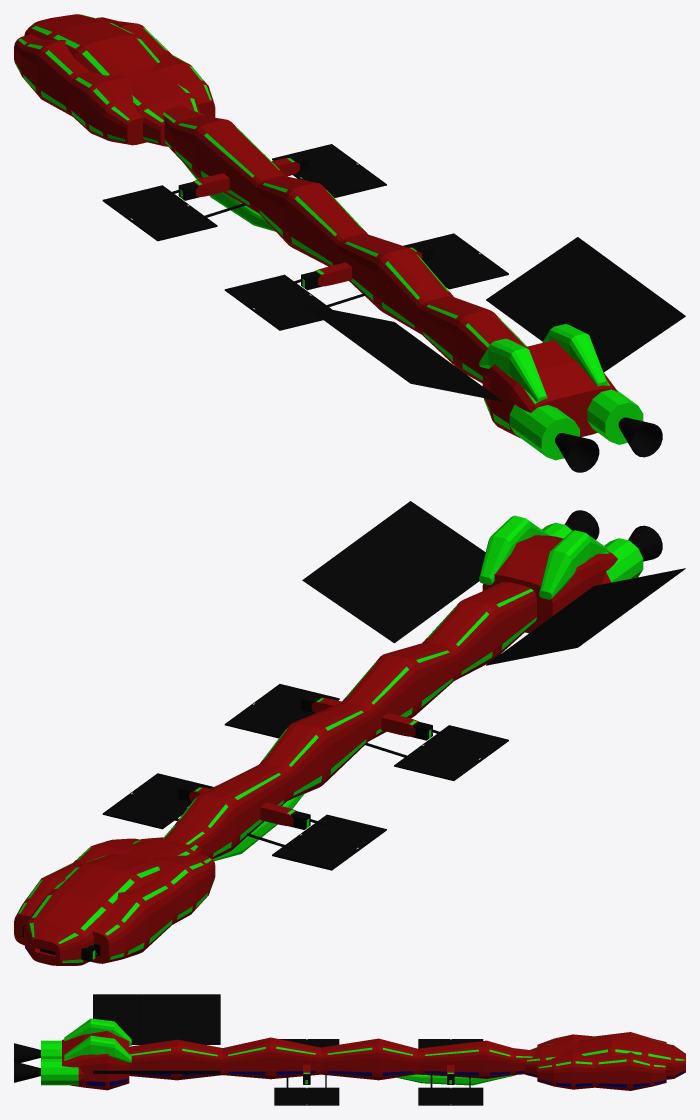
The model's file is longreach.glb.
3 renders of one model, top to bottom at view 1: azimuth 30°, elevation 25°; view 2: azimuth 150°, elevation 25°; view 3: azimuth 270°, elevation 25°, orthographic. The views are drawn at different scales.
Visible parts, largest first — view 1: expedition_longreach:dorsal_keel, expedition_longreach:radiator_2, expedition_longreach:bow_capsule_-8, expedition_longreach:central_pressure_bow, expedition_longreach:radiator_1, expedition_longreach:aft_machinery, expedition_longreach:cradle_port-1, expedition_longreach:cradle_port-2, expedition_longreach:cradle_starboard-2, expedition_longreach:cradle_starboard-1, expedition_longreach:service_panels_3, expedition_longreach:drive_housing_-1 (+9 smaller); view 2: expedition_longreach:dorsal_keel, expedition_longreach:radiator_2, expedition_longreach:central_pressure_bow, expedition_longreach:bow_capsule_-8, expedition_longreach:radiator_1, expedition_longreach:aft_machinery, expedition_longreach:cradle_port-1, expedition_longreach:cradle_port-2, expedition_longreach:cradle_starboard-1, expedition_longreach:service_panels_3, expedition_longreach:cradle_starboard-2, expedition_longreach:aft_thermal_shoulder_-1 (+7 smaller); view 3: expedition_longreach:dorsal_keel, expedition_longreach:radiator_1, expedition_longreach:bow_capsule_8, expedition_longreach:central_pressure_bow, expedition_longreach:aft_machinery, expedition_longreach:service_panels_3, expedition_longreach:cradle_starboard-1, expedition_longreach:cradle_starboard-2, expedition_longreach:aft_thermal_shoulder_1, expedition_longreach:drive_housing_1, expedition_longreach:aft_thermal_shoulder_-1, expedition_longreach:ventral_service_keel_1 (+9 smaller).
Boxes of the visible parts, left/top/right/bottom form: expedition_longreach:dorsal_keel: left=163, top=106, right=525, bottom=383; expedition_longreach:radiator_2: left=486, top=237, right=685, bottom=372; expedition_longreach:bow_capsule_-8: left=14, top=34, right=146, bottom=145; expedition_longreach:central_pressure_bow: left=24, top=14, right=200, bottom=146; expedition_longreach:radiator_1: left=302, top=304, right=502, bottom=401; expedition_longreach:aft_machinery: left=482, top=340, right=617, bottom=437; expedition_longreach:cradle_port-1: left=102, top=185, right=217, bottom=241; expedition_longreach:cradle_port-2: left=224, top=274, right=332, bottom=330; expedition_longreach:cradle_starboard-2: left=403, top=233, right=508, bottom=289; expedition_longreach:cradle_starboard-1: left=272, top=144, right=386, bottom=197; expedition_longreach:service_panels_3: left=163, top=108, right=526, bottom=380; expedition_longreach:drive_housing_-1: left=509, top=404, right=579, bottom=460; expedition_longreach:dorsal_keel: left=164, top=582, right=536, bottom=858; expedition_longreach:radiator_2: left=302, top=501, right=485, bottom=643; expedition_longreach:central_pressure_bow: left=24, top=837, right=202, bottom=965; expedition_longreach:bow_capsule_-8: left=91, top=854, right=215, bottom=963; expedition_longreach:radiator_1: left=486, top=568, right=685, bottom=665; expedition_longreach:aft_machinery: left=482, top=535, right=617, bottom=633; expedition_longreach:cradle_port-1: left=272, top=814, right=386, bottom=870; expedition_longreach:cradle_port-2: left=394, top=725, right=508, bottom=780; expedition_longreach:cradle_starboard-1: left=102, top=773, right=213, bottom=829; expedition_longreach:service_panels_3: left=163, top=582, right=536, bottom=856; expedition_longreach:cradle_starboard-2: left=224, top=684, right=339, bottom=738; expedition_longreach:aft_thermal_shoulder_-1: left=539, top=530, right=607, bottom=599; expedition_longreach:dorsal_keel: left=129, top=1037, right=534, bottom=1080; expedition_longreach:radiator_1: left=93, top=994, right=220, bottom=1044; expedition_longreach:bow_capsule_8: left=537, top=1050, right=666, bottom=1090; expedition_longreach:central_pressure_bow: left=525, top=1034, right=685, bottom=1079; expedition_longreach:aft_machinery: left=62, top=1031, right=129, bottom=1090; expedition_longreach:service_panels_3: left=130, top=1046, right=532, bottom=1076; expedition_longreach:cradle_starboard-1: left=418, top=1087, right=483, bottom=1105; expedition_longreach:cradle_starboard-2: left=274, top=1087, right=339, bottom=1105; expedition_longreach:aft_thermal_shoulder_1: left=64, top=1035, right=131, bottom=1063; expedition_longreach:drive_housing_1: left=41, top=1059, right=83, bottom=1085; expedition_longreach:aft_thermal_shoulder_-1: left=64, top=1018, right=131, bottom=1045; expedition_longreach:ventral_service_keel_1: left=396, top=1074, right=515, bottom=1085.
Bounding box in the file's own units: 78.17 × 24.86 × 280.
